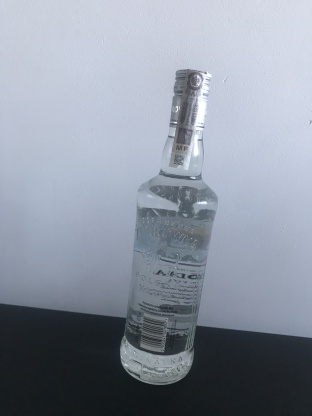nakretka: (167, 64, 213, 133)
